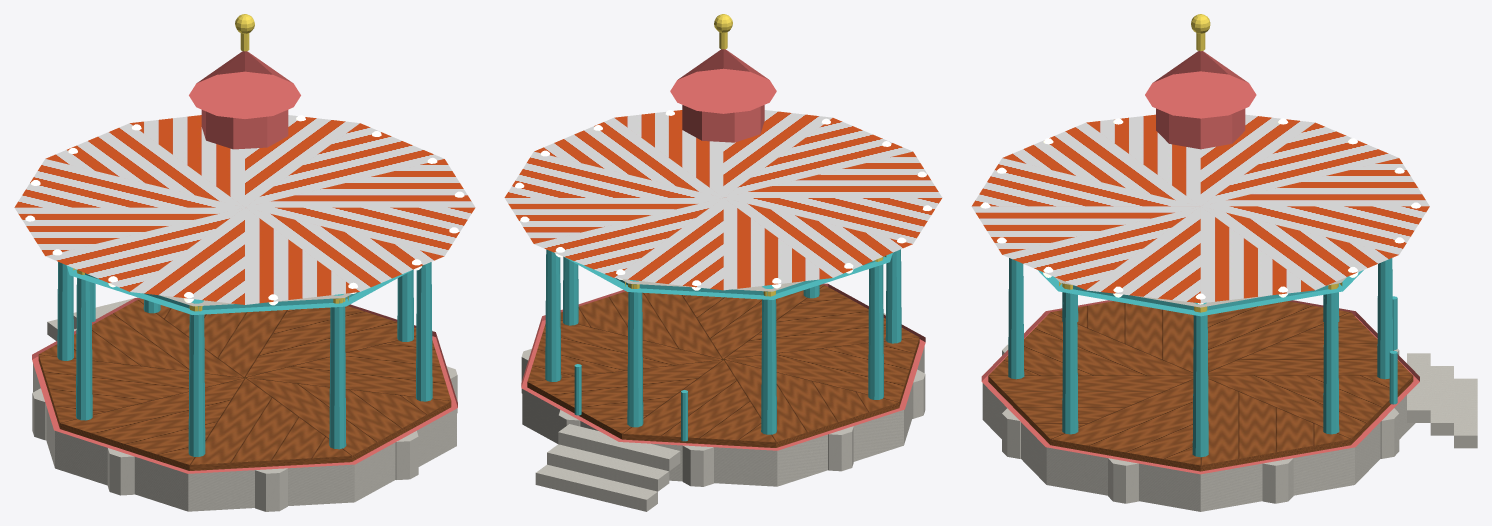
File: theme-park-rides-and-coasters-theme-park-rides-and-coa-aa2e4e63__28717.glb
3 views of the same model, side by side, from view 1: azimuth 30°, elevation 25°; view 2: azimuth 150°, elevation 25°; view 3: azimuth 270°, elevation 25° (orthographic). The views are drawn at different scales.
Parts seen in each view (by area): view 1: theme-park-rides-and-coasters-bandstand; view 2: theme-park-rides-and-coasters-bandstand; view 3: theme-park-rides-and-coasters-bandstand.
Part boxes in pixels (x1,y1,x2,y2): theme-park-rides-and-coasters-bandstand: (14, 14, 475, 511); theme-park-rides-and-coasters-bandstand: (504, 14, 942, 511); theme-park-rides-and-coasters-bandstand: (971, 14, 1477, 511).
Size of the model in its own units: 8.2 by 7.99 by 9.05.
7 materials, 3 textured.
